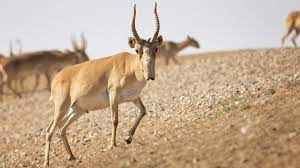saiga: (43, 1, 164, 165)
